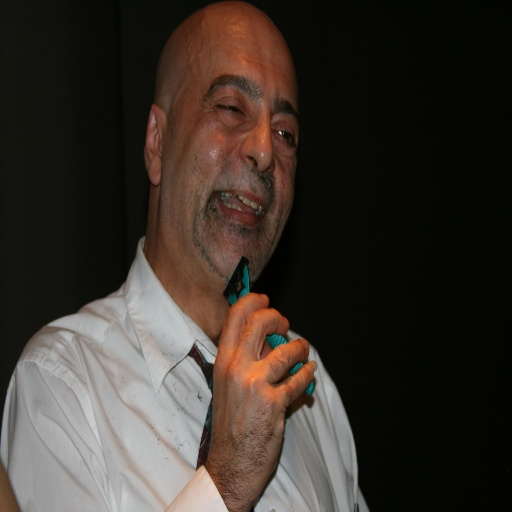hand: (196, 273, 317, 500)
